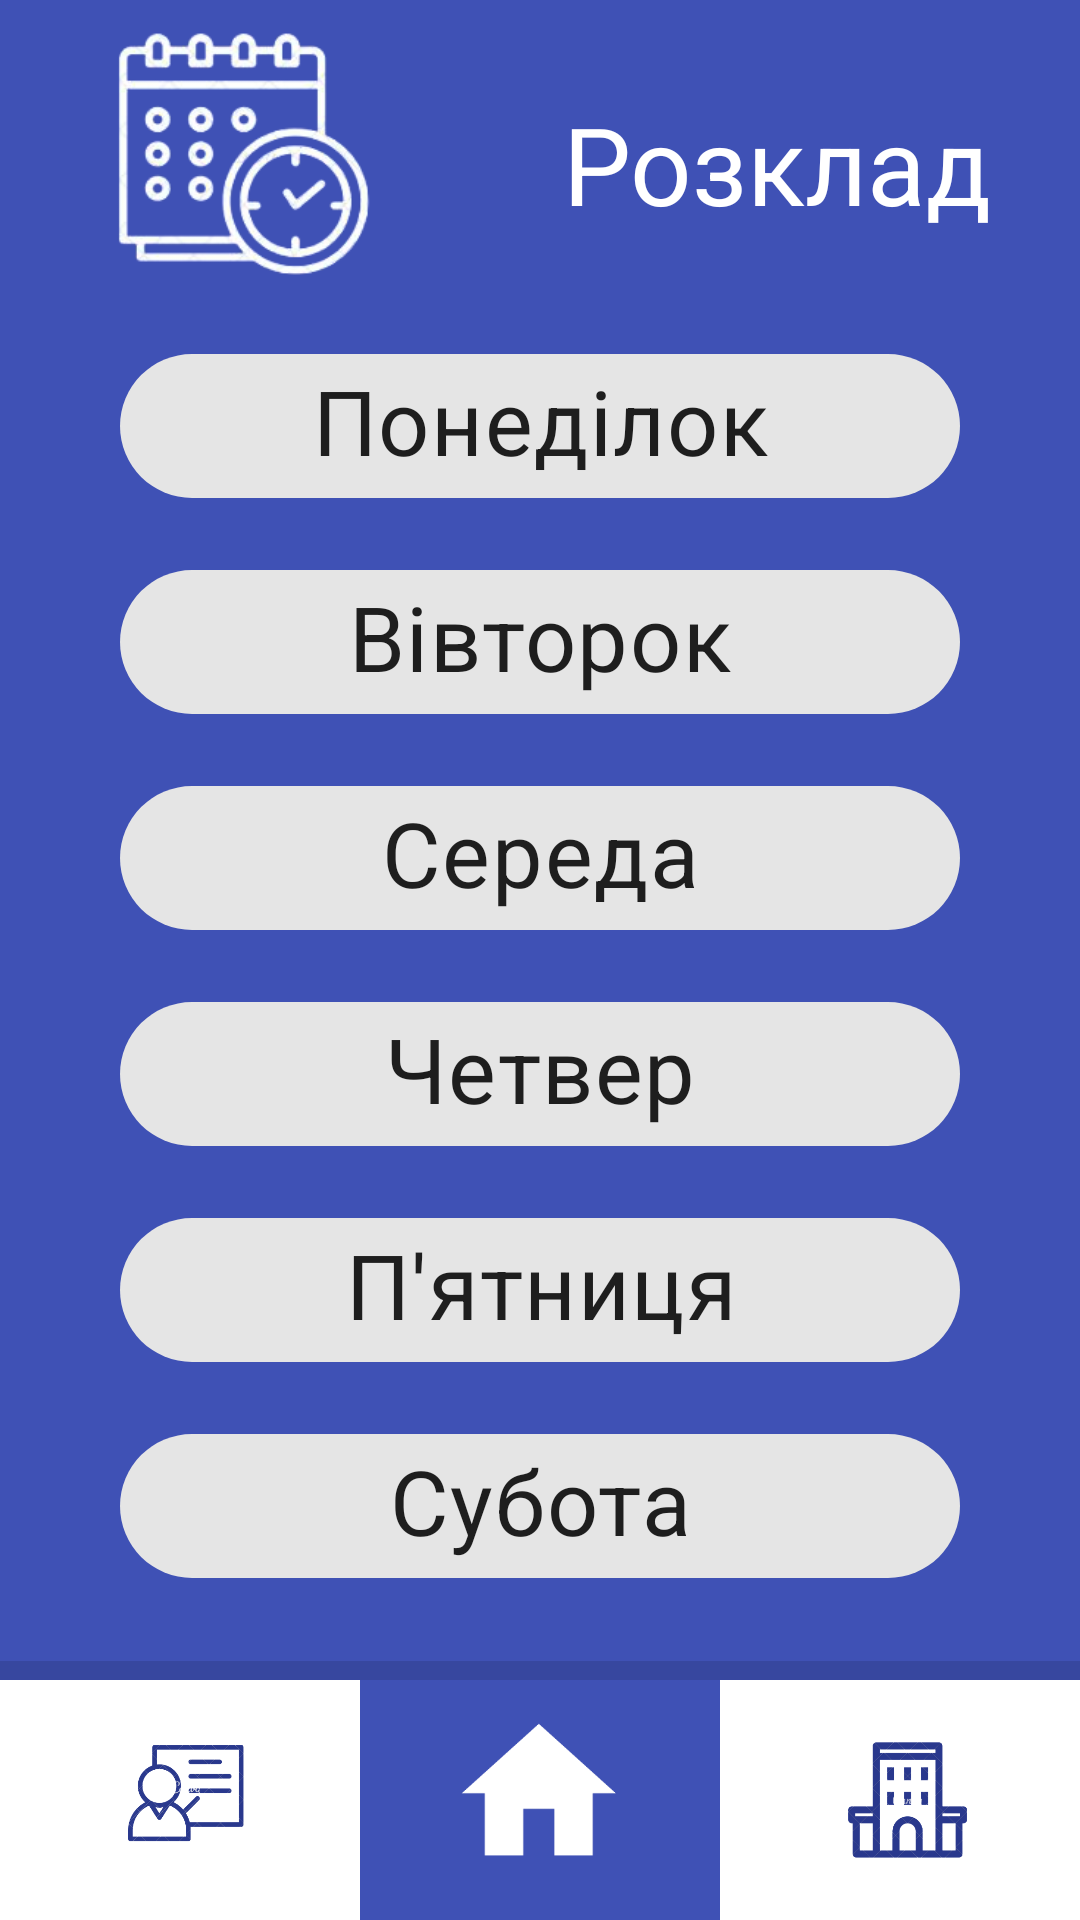

Named icons in this screenshot (1080*1920) and their bounding boxes, [x1=x1, y1=y1, x2=x2, y2=y2]:
schedule: [x1=119, y1=33, x2=369, y2=275]
